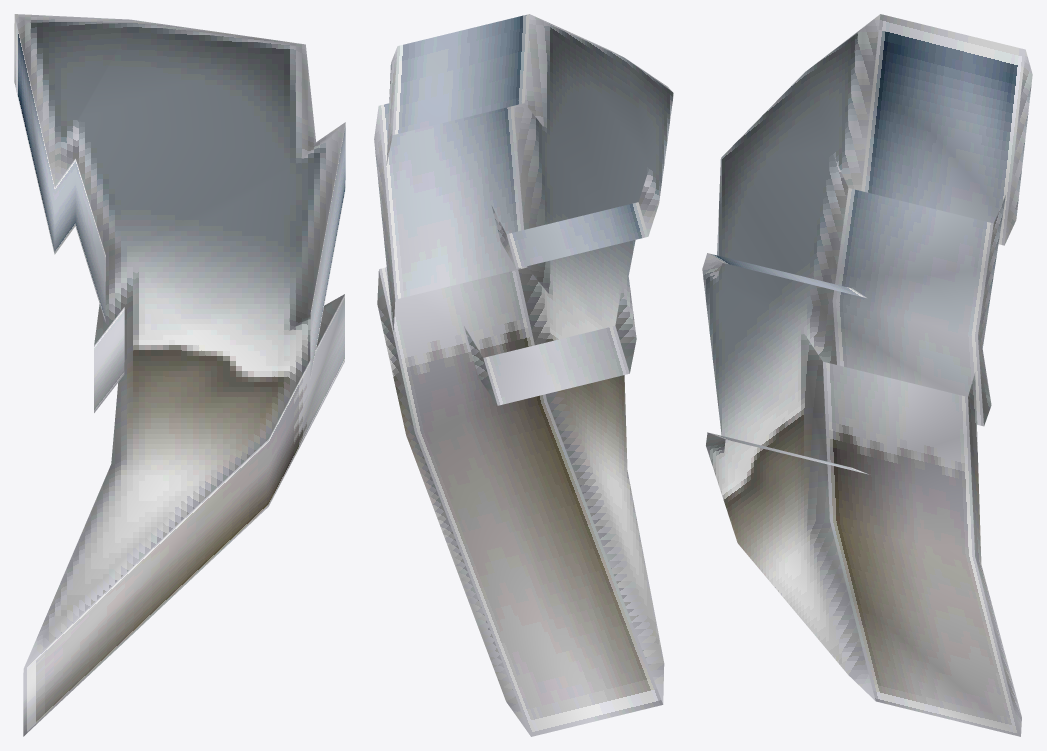
Rendered from ps2_save-icons_powerrangersdinothunder.glb.
3 renders of one model, left to right at view 1: azimuth 30°, elevation 25°; view 2: azimuth 150°, elevation 25°; view 3: azimuth 270°, elevation 25°, orthographic. The views are drawn at different scales.
Parts seen in each view (by area): view 1: VIEW.ICO; view 2: VIEW.ICO; view 3: VIEW.ICO.
Part boxes in pixels (bbox=[...]): VIEW.ICO: bbox=[14, 14, 345, 736]; VIEW.ICO: bbox=[374, 14, 673, 736]; VIEW.ICO: bbox=[702, 14, 1032, 736].
Bounding box in the file's own units: 1.94 × 3.82 × 1.67.
1 material, 1 textured.
